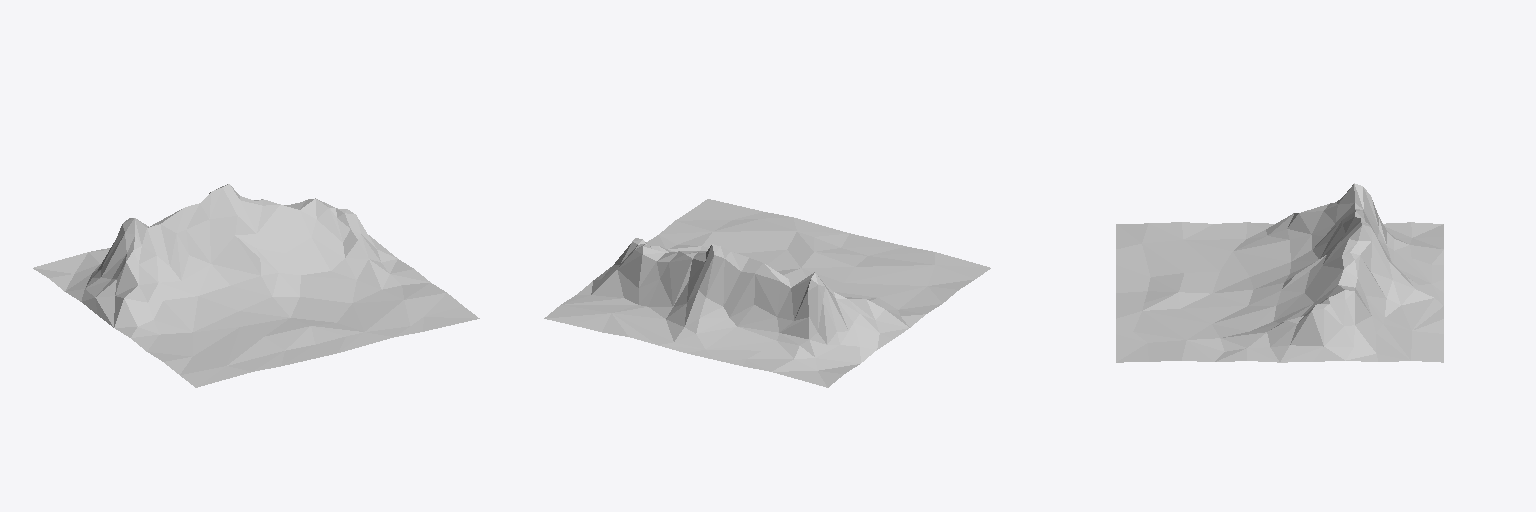
File: terrain-mountain-range_1.obj
The picture shows the model from 3 angles: view 1: azimuth 30°, elevation 25°; view 2: azimuth 150°, elevation 25°; view 3: azimuth 270°, elevation 25°; orthographic projection.
Parts seen in each view (by area): view 1: terrain-mountain-range; view 2: terrain-mountain-range; view 3: terrain-mountain-range.
Part boxes in pixels (left/top/right/bottom): terrain-mountain-range: left=33, top=184, right=479, bottom=387; terrain-mountain-range: left=544, top=199, right=990, bottom=387; terrain-mountain-range: left=1116, top=183, right=1443, bottom=362.
Size of the model in its own units: 60 by 15.56 by 60.